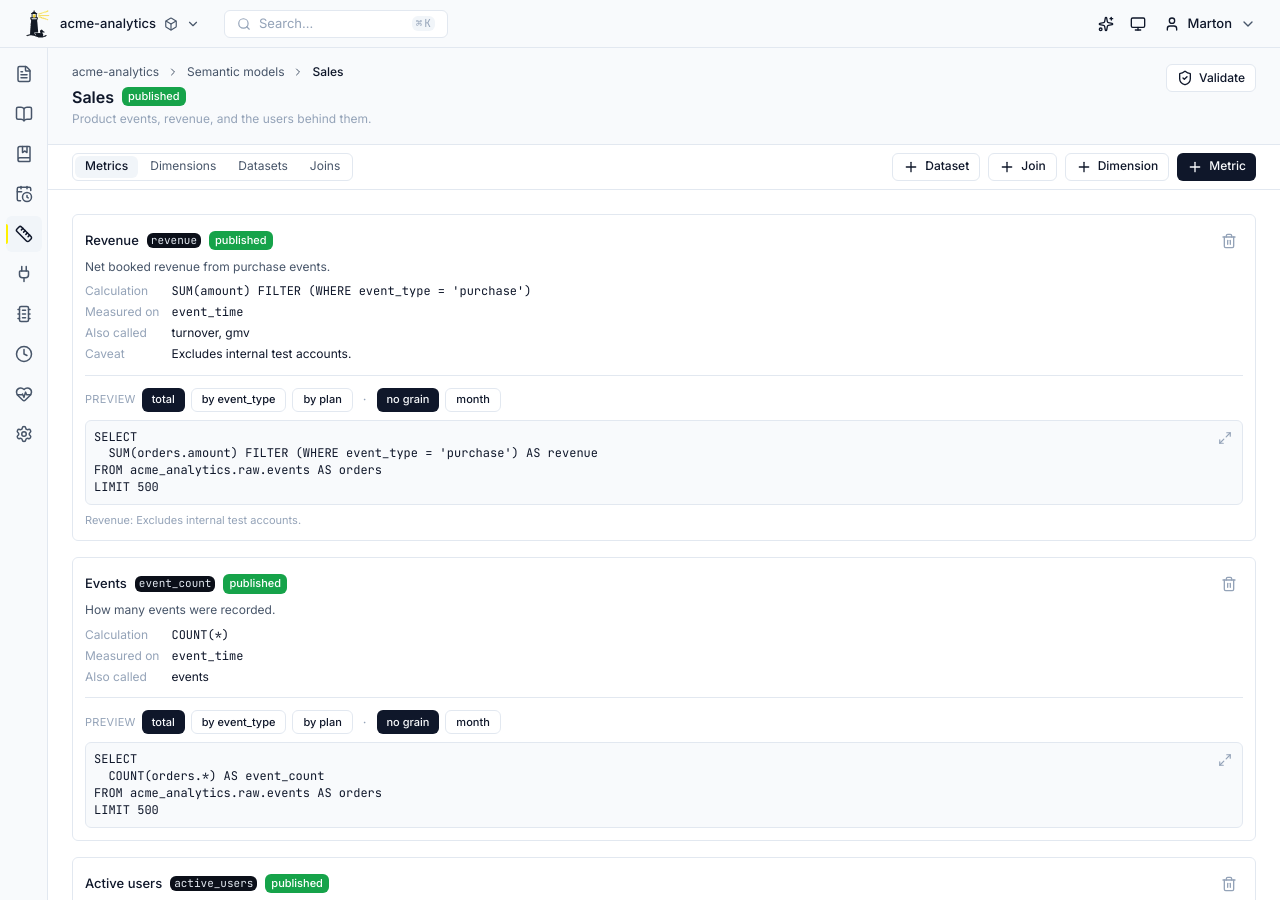
authoring definitions › explains why a dataset needs a primary key
Click the button "Dataset" at (936,167), box top-left (892, 153), bottom-right (980, 181)
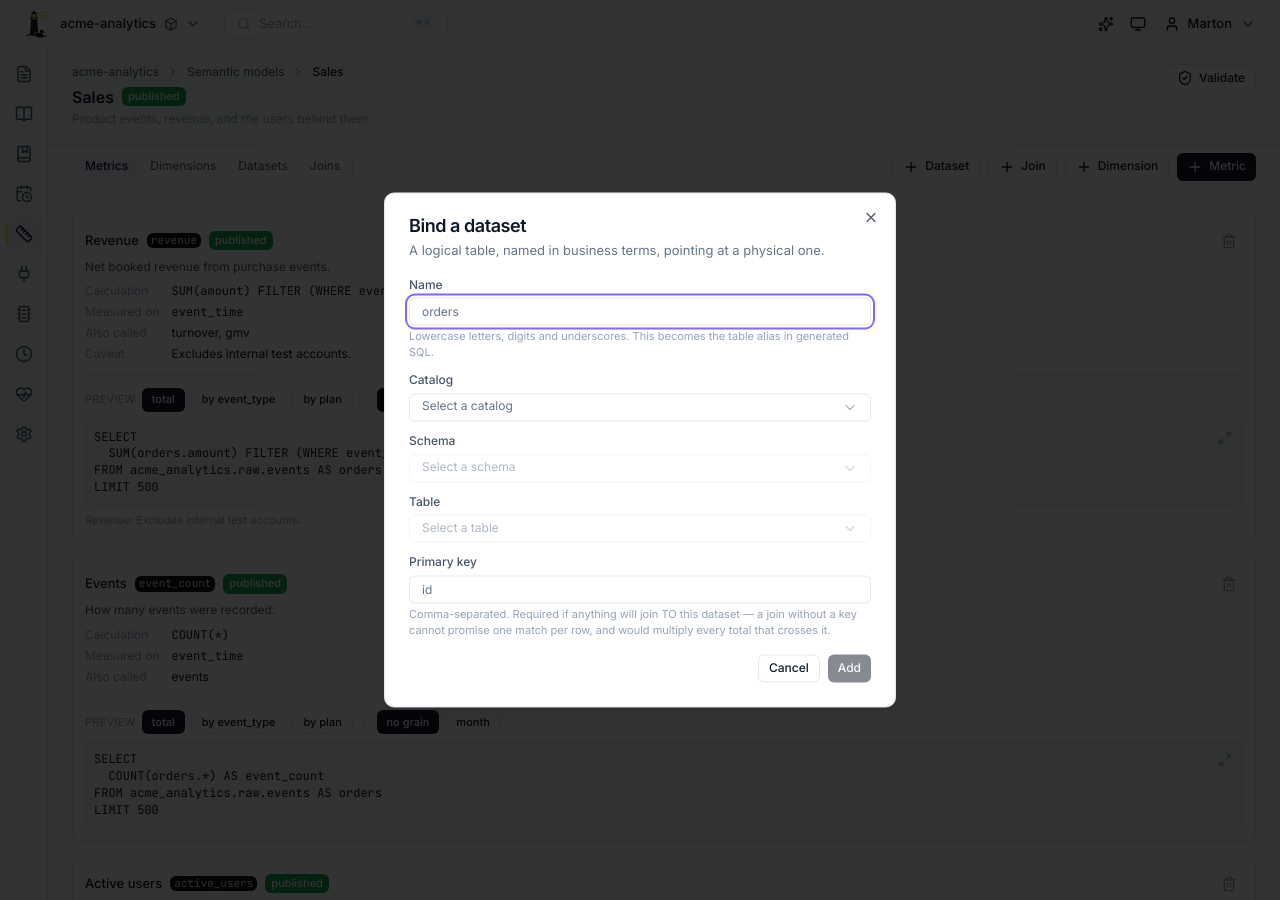
Now the text "would multiply every total that crosses it" is shown, box top-left (409, 608), bottom-right (857, 637)
